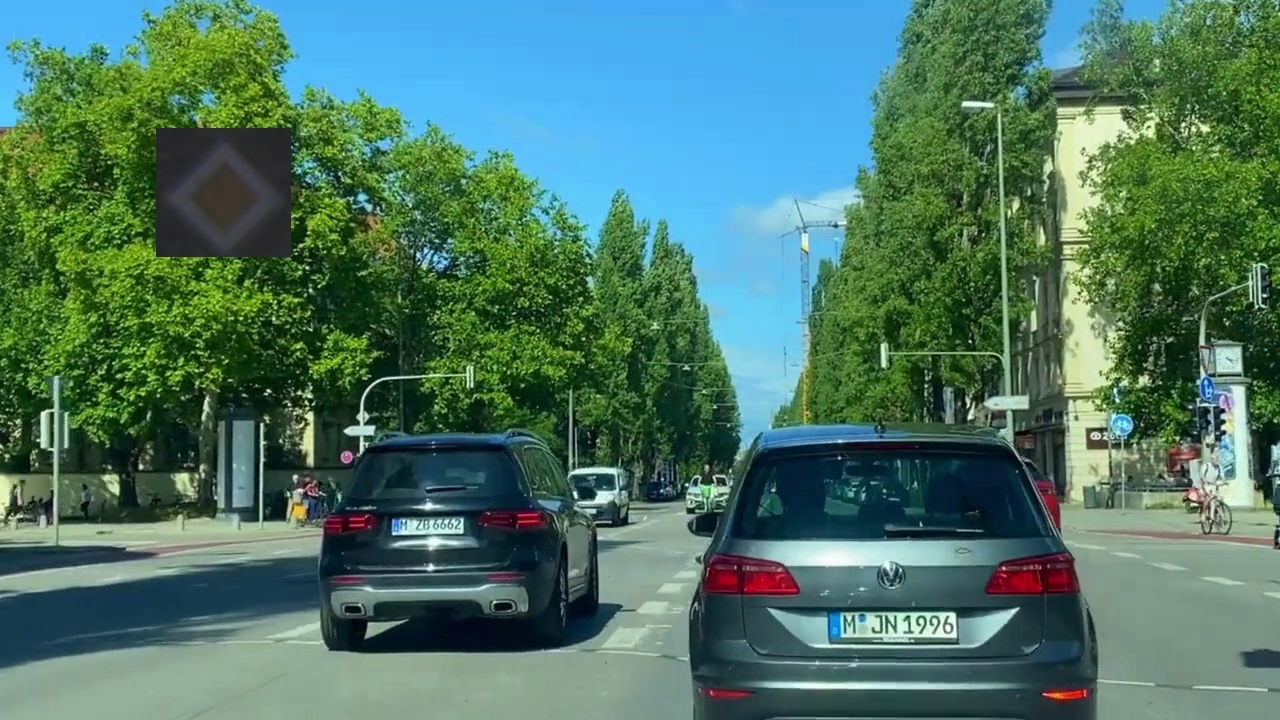Priority road: (156, 128, 291, 257)
